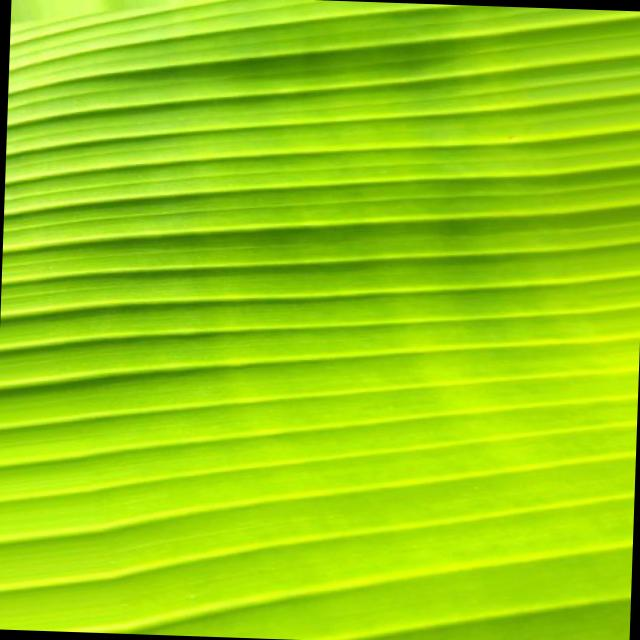Banana_Healthy: (108, 108, 552, 530)
